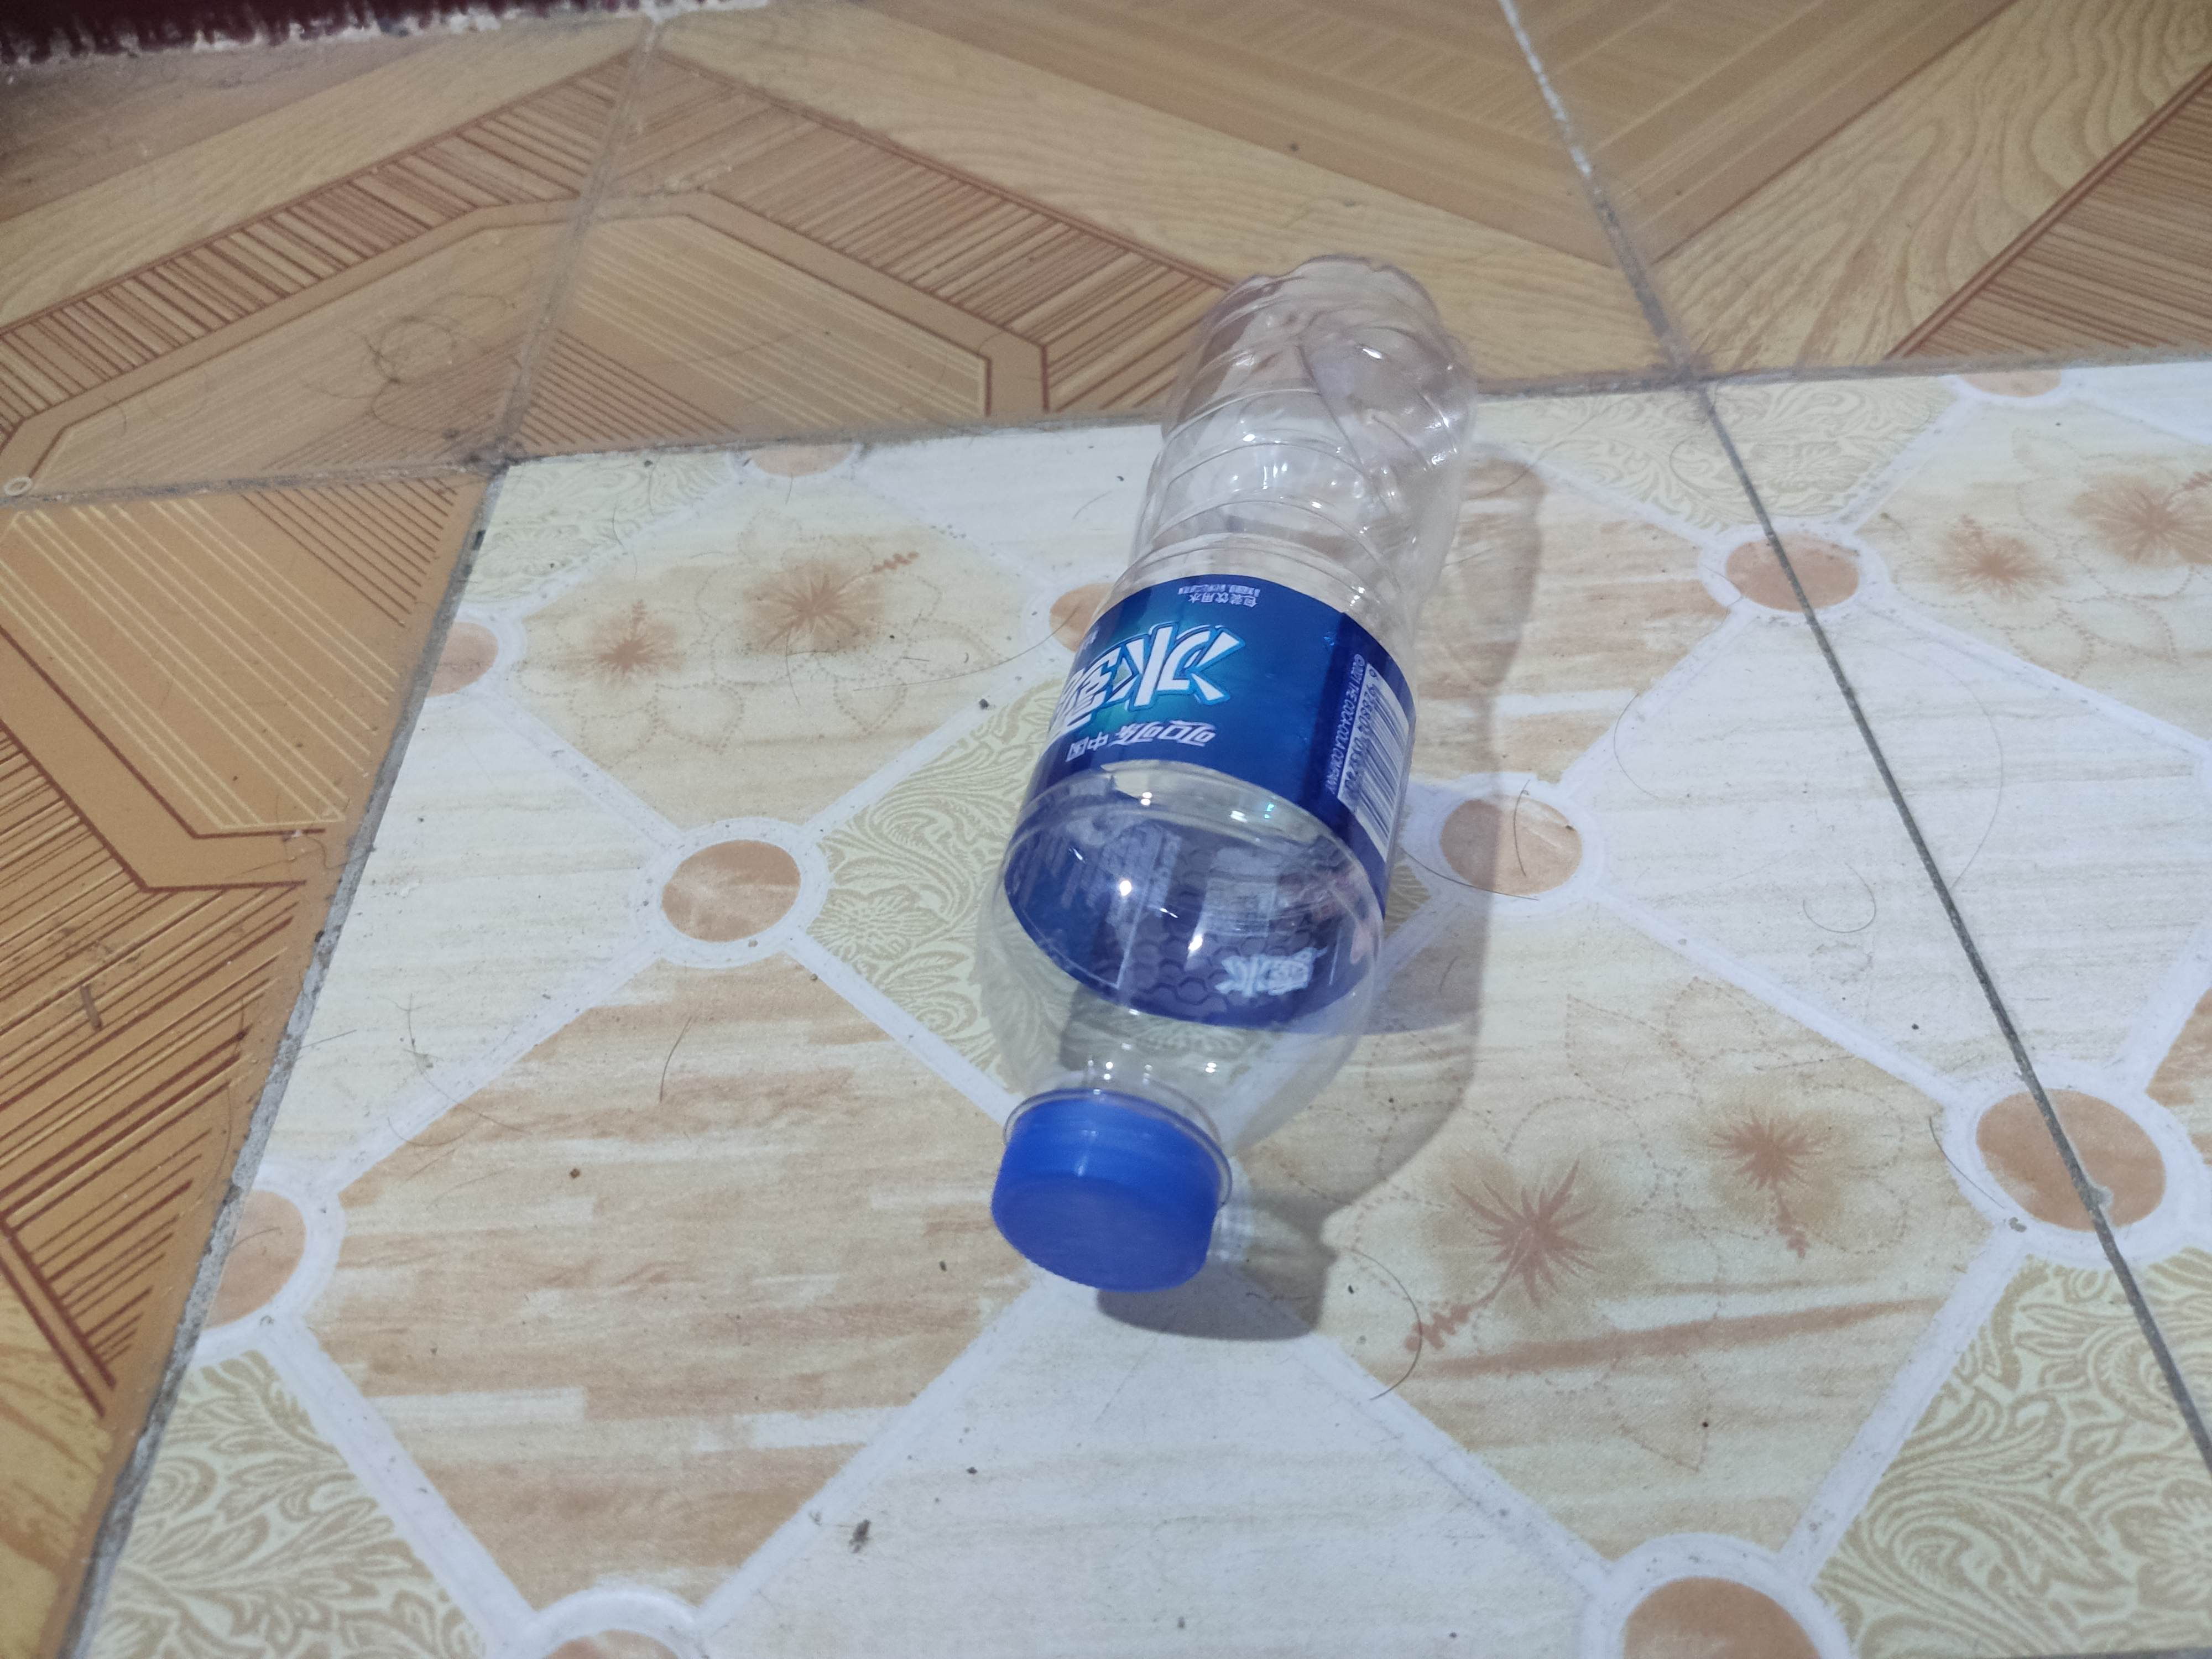Plastic Bottle: (967, 247, 1482, 1300)
